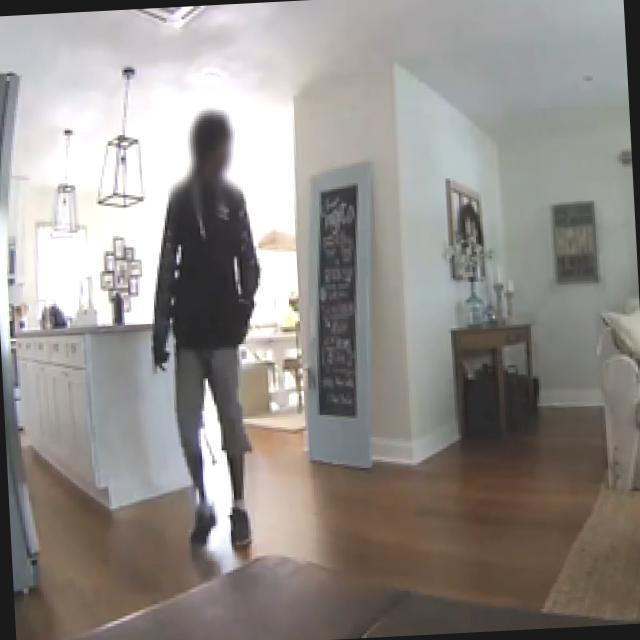person: (139, 111, 274, 549)
